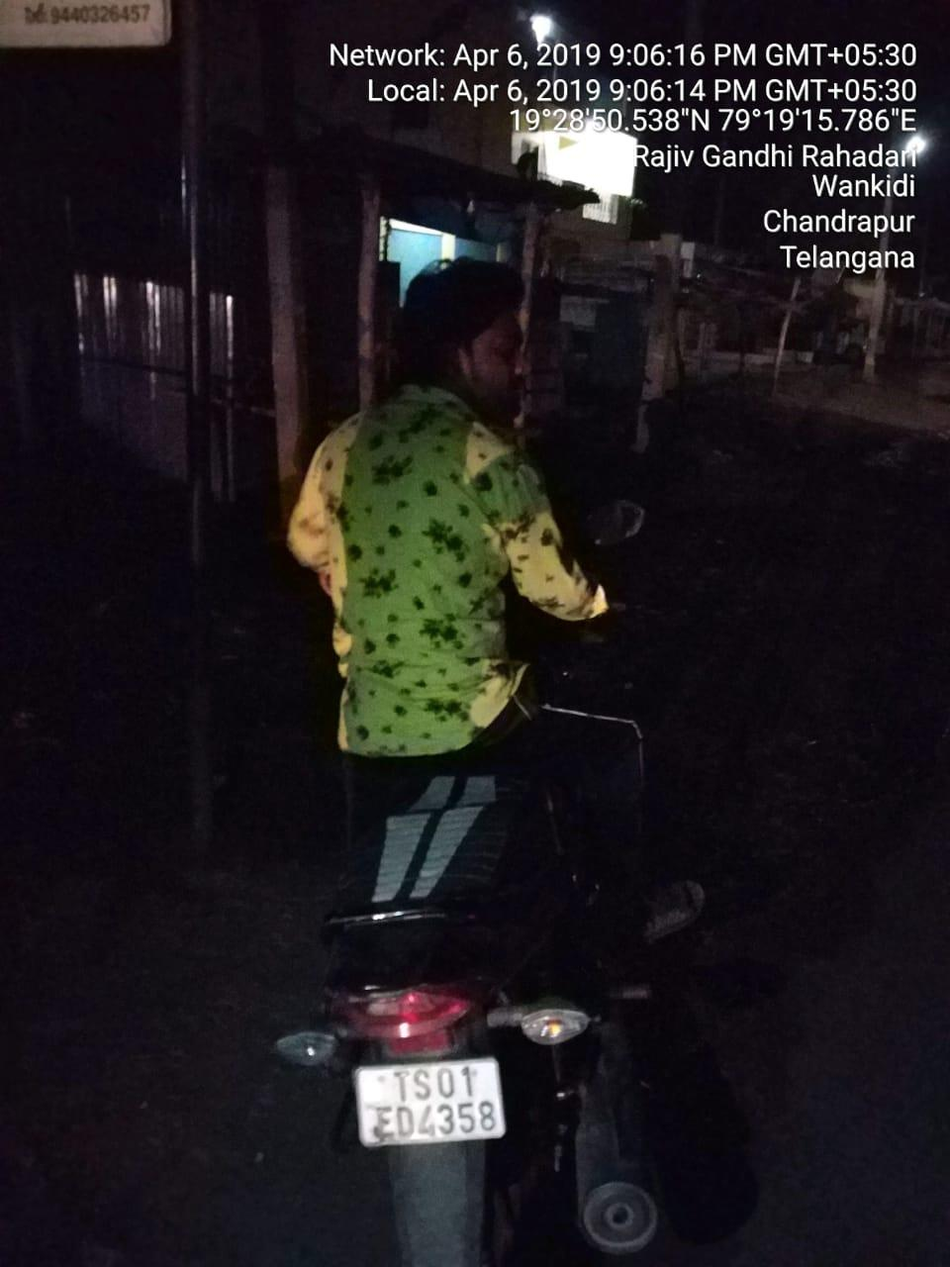plate: (337, 1047, 527, 1173)
